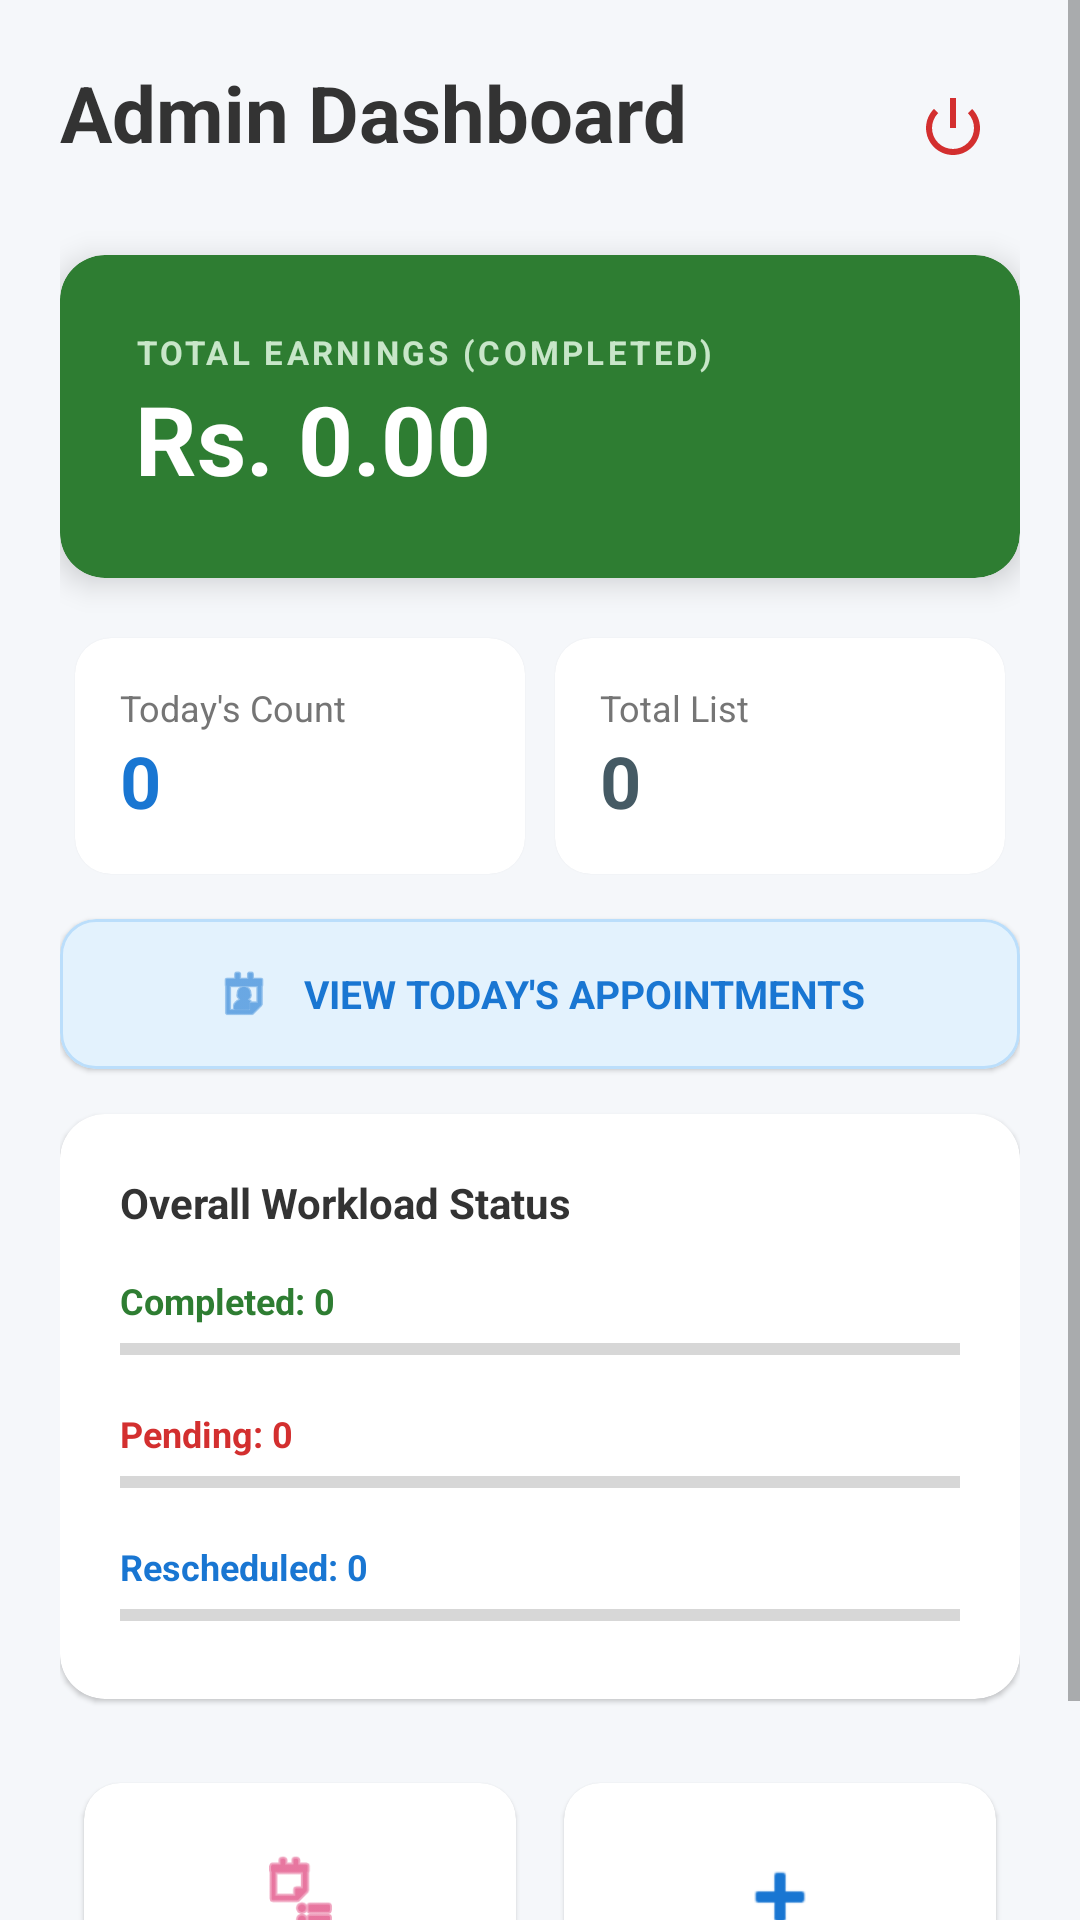

Named icons in this screenshot (1080px x 1920px) and their bounding boxes, [x1=x1, y1=y1, x2=x2, y2=y2]:
calendar: [x1=225, y1=971, x2=263, y2=1015]
lock power off: [x1=926, y1=98, x2=980, y2=155]
